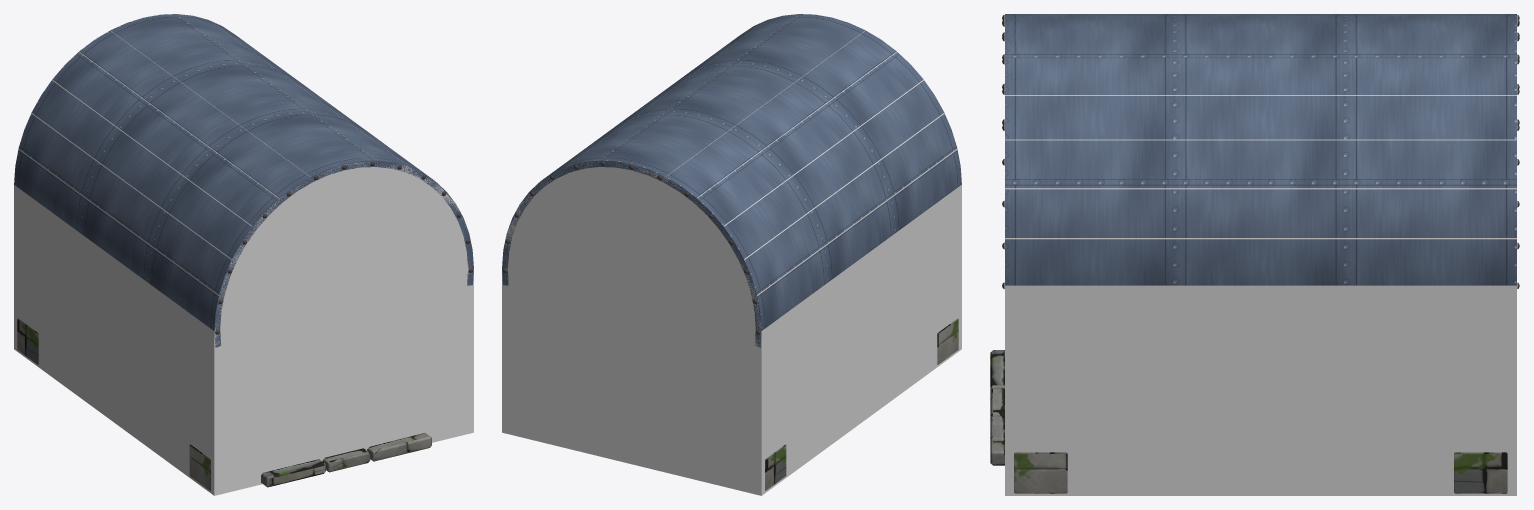
The model's file is SM_Forge_Kiln.fbx.
3 views of the same model, side by side, from view 1: azimuth 30°, elevation 25°; view 2: azimuth 150°, elevation 25°; view 3: azimuth 270°, elevation 25° (orthographic). The views are drawn at different scales.
Visible parts, largest first — view 1: Kiln_Col0, Kiln_Body; view 2: Kiln_Col0, Kiln_Body; view 3: Kiln_Body, Kiln_Col0.
Part boxes in pixels (<box>): Kiln_Col0: <box>14,14,473,495</box>; Kiln_Body: <box>14,14,473,490</box>; Kiln_Col0: <box>502,14,961,495</box>; Kiln_Body: <box>502,14,961,490</box>; Kiln_Body: <box>990,14,1519,493</box>; Kiln_Col0: <box>1005,95,1516,495</box>.
Size of the model in its own units: 18.2 by 20 by 25.04.
